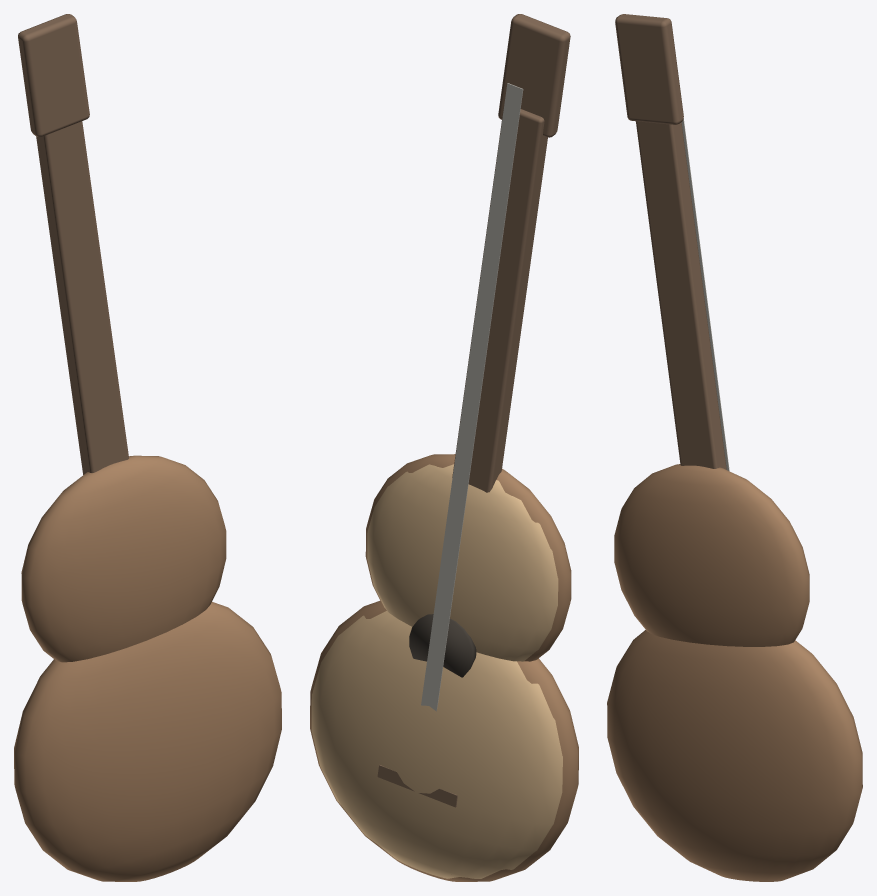
Rendered from escena.casa.guitarra.fbx.
3 views of the same model, side by side, from view 1: azimuth 30°, elevation 25°; view 2: azimuth 150°, elevation 25°; view 3: azimuth 330°, elevation 25° (orthographic). The views are drawn at different scales.
Visible parts, largest first — view 1: Cuerpo de abajo, Cuerpo de arriba, Mastil, Clavijero; view 2: Tapa de abajo, Tapa de arriba, Mastil, Cuerdas, Clavijero, Cuerpo de abajo, Cuerpo de arriba, Boca, Puente; view 3: Cuerpo de abajo, Cuerpo de arriba, Mastil, Clavijero, Cuerdas.
Part boxes in pixels (x1,y1,x2,y2): Cuerpo de abajo: (14, 602, 281, 881); Cuerpo de arriba: (21, 455, 226, 662); Mastil: (36, 121, 128, 474); Clavijero: (18, 14, 89, 136); Tapa de abajo: (311, 611, 562, 878); Tapa de arriba: (367, 464, 558, 661); Mastil: (452, 108, 547, 492); Cuerdas: (421, 83, 523, 711); Clavijero: (498, 14, 570, 137); Cuerpo de abajo: (310, 601, 578, 881); Cuerpo de arriba: (365, 454, 571, 661); Boca: (409, 614, 476, 677); Puente: (377, 765, 457, 807); Cuerpo de abajo: (607, 630, 862, 881); Cuerpo de arriba: (614, 464, 809, 646); Mastil: (636, 121, 726, 469); Clavijero: (615, 14, 683, 124); Cuerdas: (681, 118, 729, 471).
Bounding box in the file's own units: 0.3375 × 1.07 × 0.1032.
